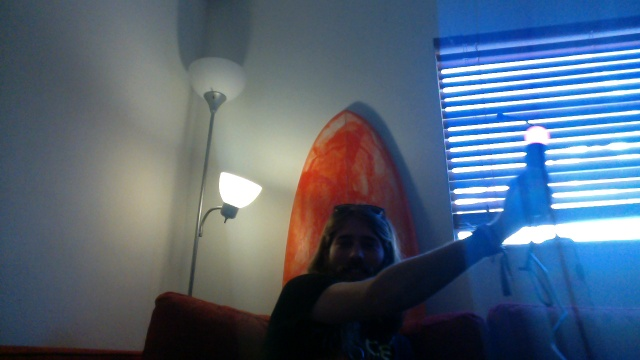wand: (525, 126, 550, 147)
